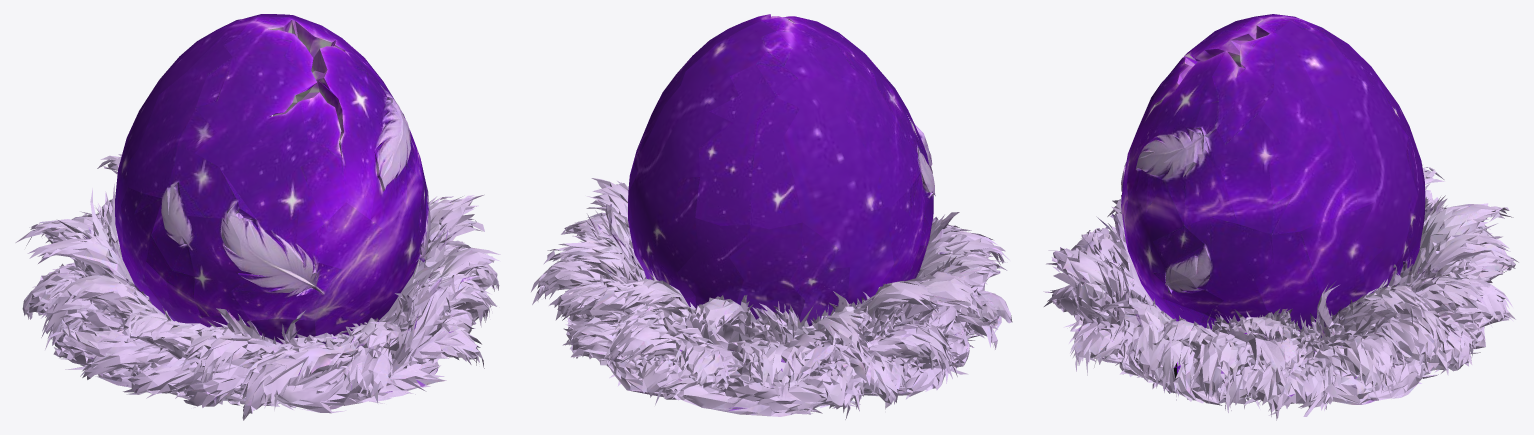
Rendered from oeuf.glb.
3 views of the same model, side by side, from view 1: azimuth 30°, elevation 25°; view 2: azimuth 150°, elevation 25°; view 3: azimuth 270°, elevation 25° (orthographic). The views are drawn at different scales.
Visible parts, largest first — view 1: output_unwrapped; view 2: output_unwrapped; view 3: output_unwrapped.
Part boxes in pixels (bbox=[...]): output_unwrapped: bbox=[15, 14, 500, 420]; output_unwrapped: bbox=[531, 14, 1012, 419]; output_unwrapped: bbox=[1043, 14, 1518, 420].
Size of the model in its own units: 1.88 by 1.29 by 1.85.
1 material, 1 textured.
